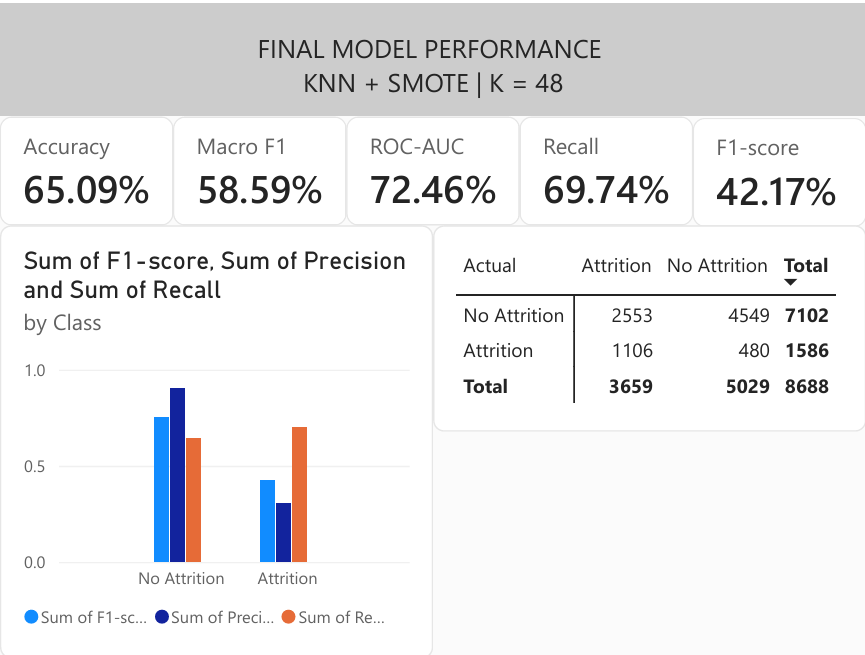

Layout of this report page (visuals, bound fields, positions):
{"tool":"powerbi","page":{"name":"Final Model Performance","canvas":[1920,1080],"ordinal":2},"visuals":[{"type":"textbox","box":[0,0,630,82],"z":0},{"type":"cardVisual","fields":{"Data":["Sum(knn_evaluation.Score)"]},"box":[0,82,126,79],"z":1},{"type":"cardVisual","fields":{"Data":["Sum(knn_evaluation.Score)"]},"box":[126,82,126,79],"z":2},{"type":"cardVisual","fields":{"Data":["Sum(knn_evaluation.Score)"]},"box":[252,82,126,79],"z":3},{"type":"cardVisual","fields":{"Data":["Sum(knn_evaluation.Score)"]},"box":[378,82,126,79],"z":4},{"type":"cardVisual","fields":{"Data":["Sum(knn_evaluation.Score)"]},"box":[504,83,126,79],"z":5},{"type":"clusteredColumnChart","fields":{"Category":["knn_performance.Class"],"Y":["Sum(knn_performance.F1-score)","Sum(knn_performance.Precision)","Sum(knn_performance.Recall)"]},"box":[0,161,315,315],"z":6},{"type":"pivotTable","fields":{"Columns":["knn_confusion_matrix.Predicted"],"Rows":["knn_confusion_matrix.Actual"],"Values":["Sum(knn_confusion_matrix.Count)"]},"box":[315,161,315,150],"z":7}]}

Visuals, with their boxes on the page's 1920x1080 design canvas (x1, y1, x2, y2). These are canvas units, not pixel positions in the 865x655 screenshot, which may show the page scaled, cropped or inside an application window:
textbox: BBox(0, 0, 630, 82)
cardVisual - Sum(knn_evaluation.Score): BBox(0, 82, 126, 161)
cardVisual - Sum(knn_evaluation.Score): BBox(126, 82, 252, 161)
cardVisual - Sum(knn_evaluation.Score): BBox(252, 82, 378, 161)
cardVisual - Sum(knn_evaluation.Score): BBox(378, 82, 504, 161)
cardVisual - Sum(knn_evaluation.Score): BBox(504, 83, 630, 162)
clusteredColumnChart - knn_performance.Class x Sum(knn_performance.F1-score): BBox(0, 161, 315, 476)
pivotTable - knn_confusion_matrix.Predicted x knn_confusion_matrix.Actual: BBox(315, 161, 630, 311)
